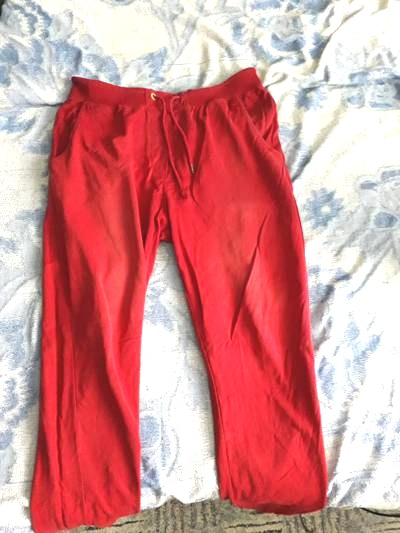Pants: (21, 75, 350, 531)
